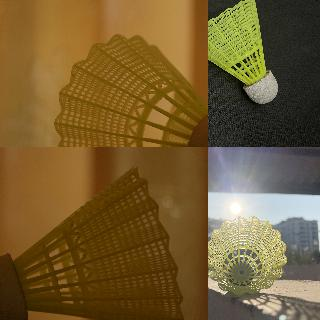shuttlecock: (0, 167, 184, 319), (53, 34, 207, 146), (208, 0, 278, 105), (208, 215, 287, 295)
